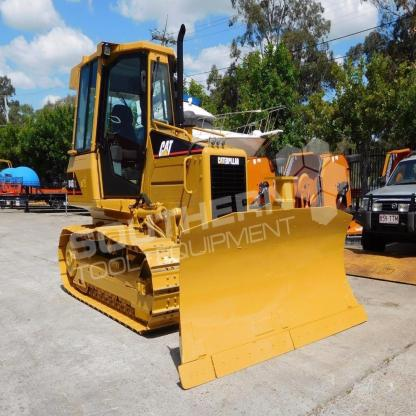bull_dozer/loader/grader: (51, 16, 374, 386)
